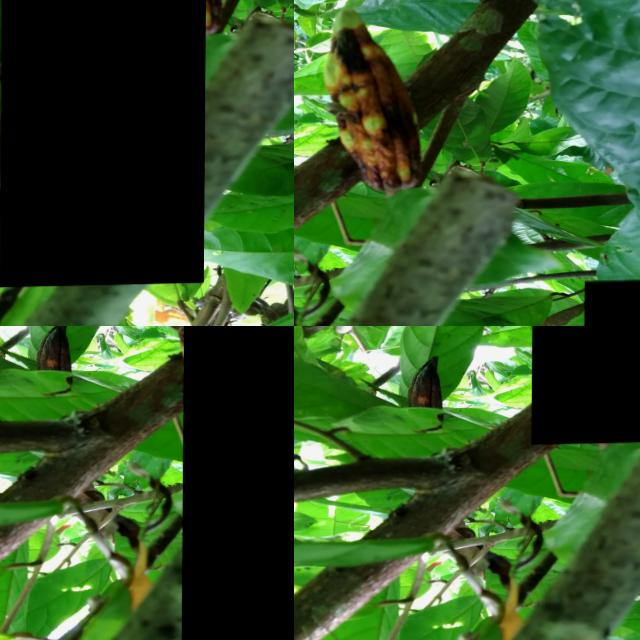Fitoftora: (294, 0, 494, 326), (0, 0, 205, 287), (532, 326, 640, 445)
Monilia: (181, 326, 294, 640)
